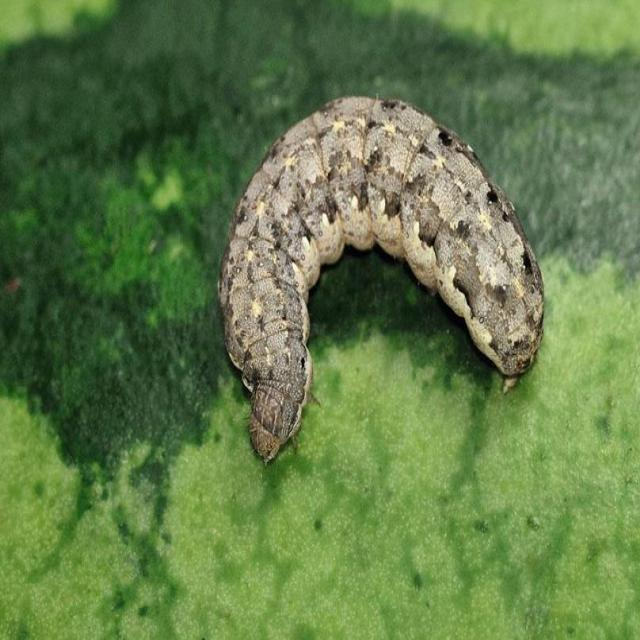BeetArmyWorm-Larva-: (207, 85, 556, 465)
